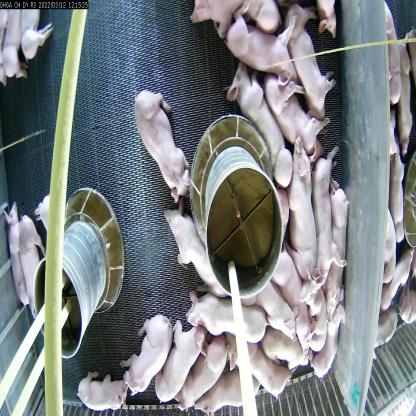Pig: (164, 206, 236, 321), (226, 66, 288, 176), (252, 47, 319, 145), (130, 89, 188, 202), (222, 12, 299, 86), (182, 290, 268, 353), (288, 130, 324, 276), (156, 321, 207, 415), (123, 322, 185, 399), (180, 333, 238, 415), (237, 327, 296, 400), (204, 356, 267, 411), (318, 270, 349, 380), (15, 209, 46, 315), (265, 251, 306, 331), (314, 149, 340, 268), (77, 366, 140, 413), (290, 29, 324, 112), (253, 283, 293, 344), (249, 322, 298, 371), (299, 278, 326, 355), (3, 194, 21, 305)
